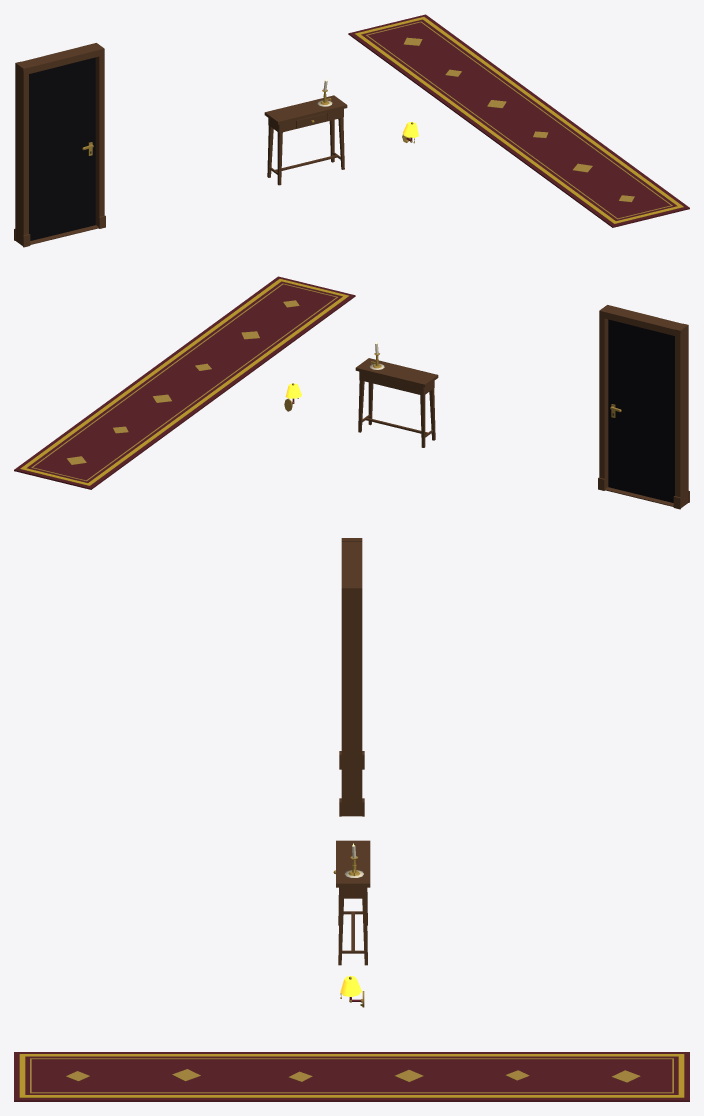
Rendered from modelsDaan.fbx.
3 renders of one model, top to bottom at view 1: azimuth 30°, elevation 25°; view 2: azimuth 150°, elevation 25°; view 3: azimuth 270°, elevation 25°, orthographic. The views are drawn at different scales.
Visible parts, largest first — view 1: carpet1.001, DoorPanel, FrameMerged.001, table; view 2: carpet1.001, DoorPanel, FrameMerged.001, table; view 3: carpet1.001, FrameMerged.001, table.
Boxes of the visible parts, box(x1,y1,x2,y2) form: carpet1.001: box(348, 14, 689, 227); DoorPanel: box(29, 57, 95, 240); FrameMerged.001: box(14, 43, 105, 247); table: box(264, 95, 347, 185); carpet1.001: box(14, 276, 355, 489); DoorPanel: box(608, 319, 674, 502); FrameMerged.001: box(598, 305, 689, 509); table: box(355, 358, 438, 447); carpet1.001: box(14, 1052, 689, 1101); FrameMerged.001: box(339, 538, 364, 816); table: box(336, 840, 370, 965).
Bounding box in the file's own units: 697 × 220 × 592.
